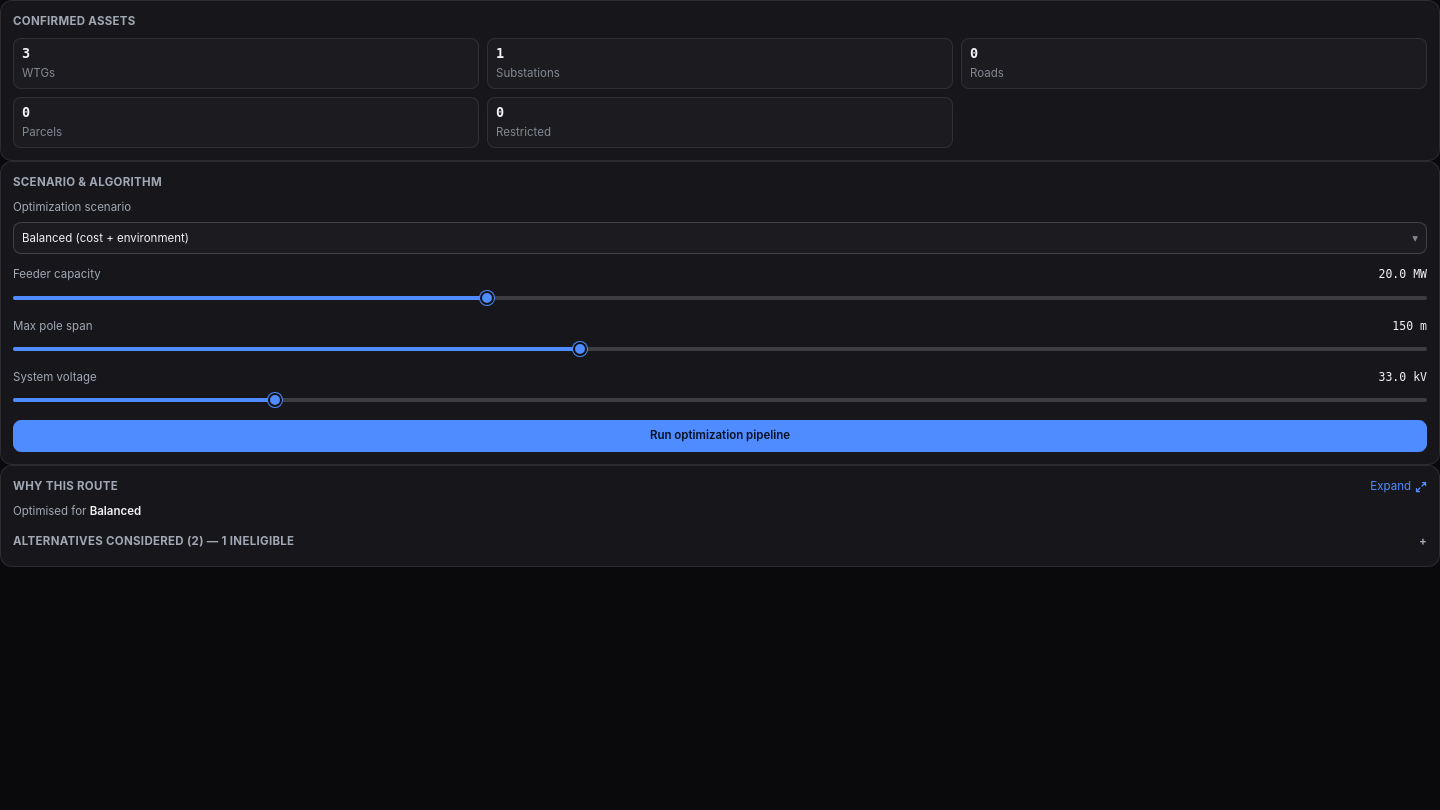
it: candidate comparison on a successful run › flags ineligible candidates in the collapsed header and their reasons when open
This screenshot has width=1440, height=810.
Click the button "Alternatives considered (2) — 1 ineligible +": click(102, 540) [13,532,1427,550]
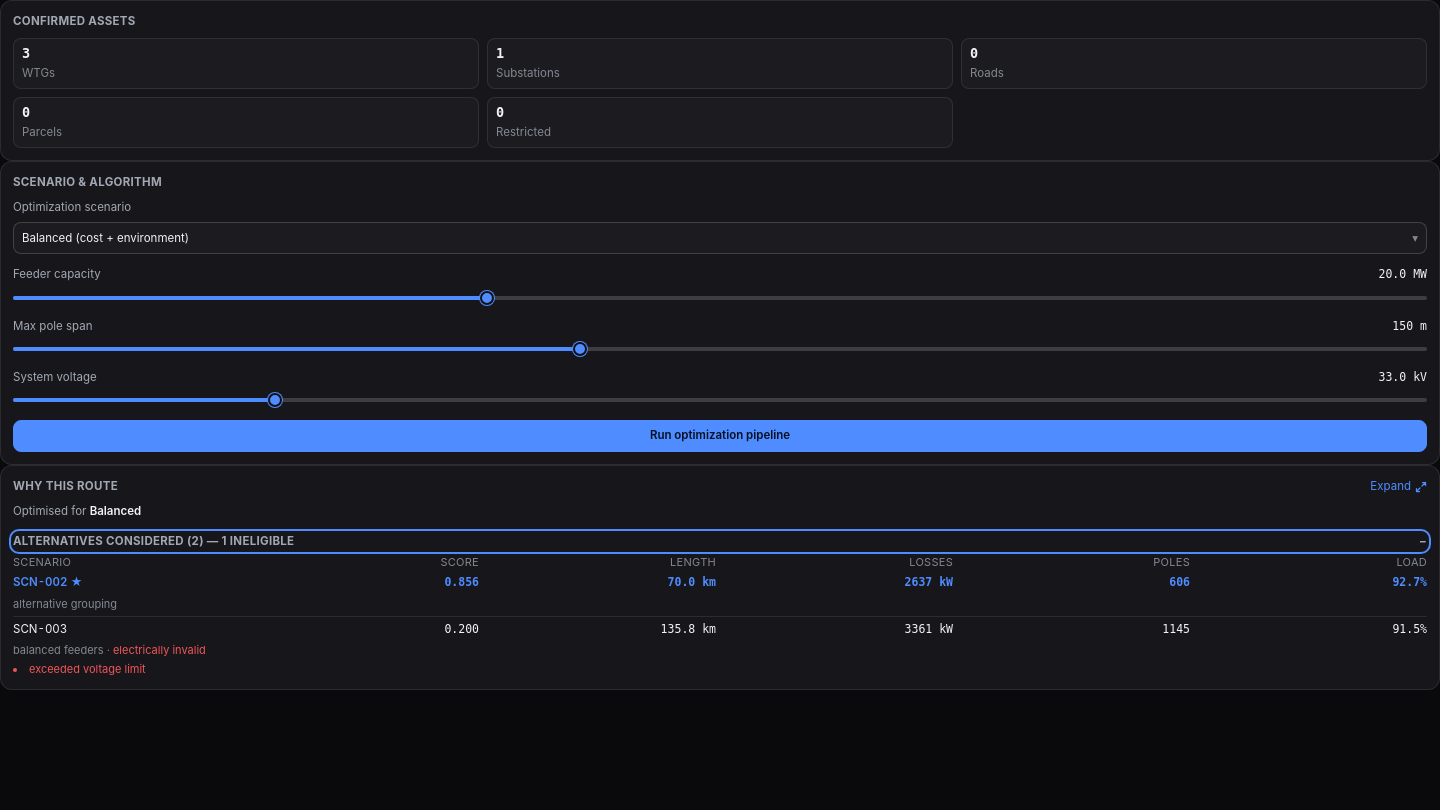
expect the list item "exceeded voltage limit" is shown: met, box [29,662,146,676]
expect the text "· electrically invalid" is shown: met, box [104,643,206,657]
